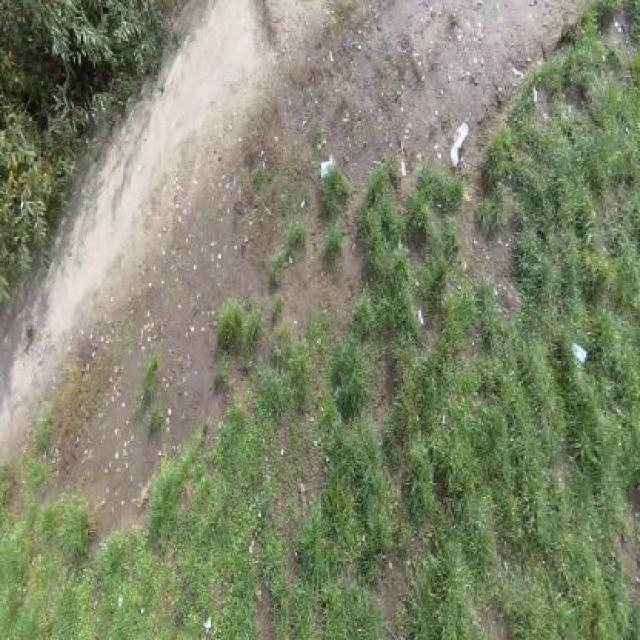Garbage: (451, 120, 469, 167), (571, 340, 587, 369), (320, 161, 334, 180)
